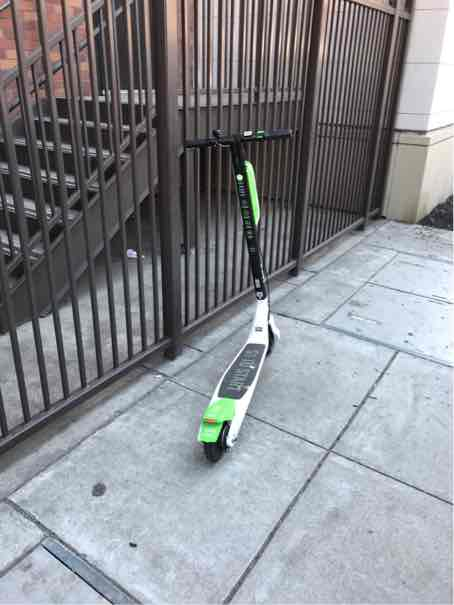scooter: (182, 120, 296, 465)
